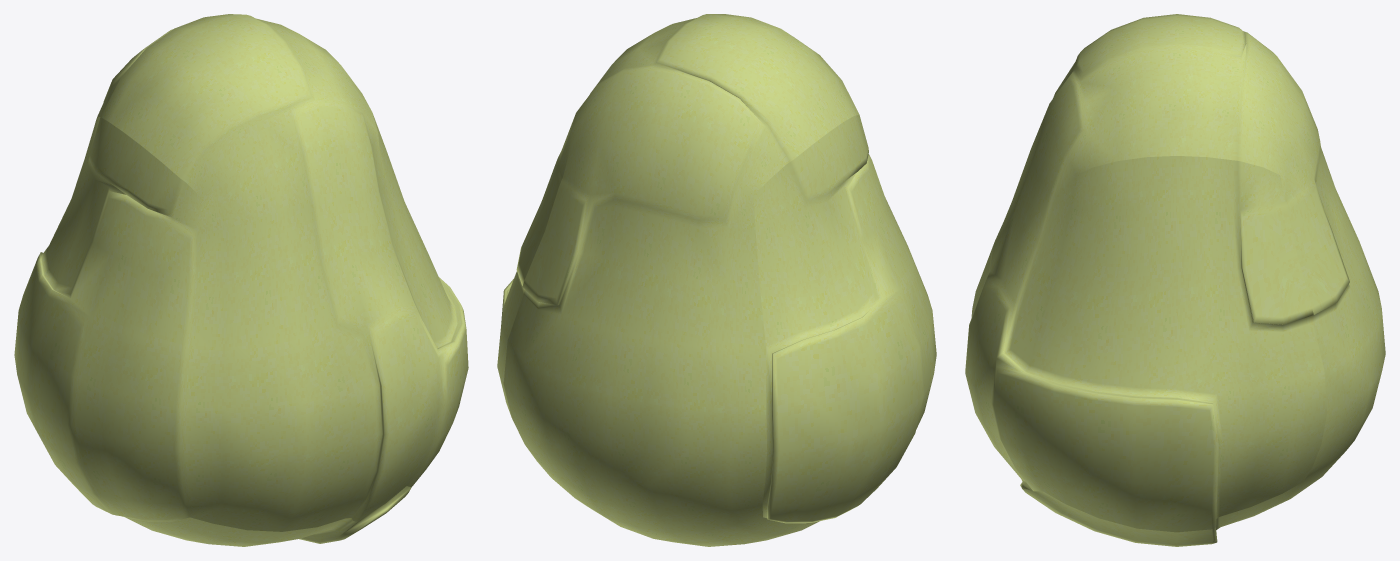
File: stareggroadeggplanetblow.dae
3 renders of one model, left to right at view 1: azimuth 30°, elevation 25°; view 2: azimuth 150°, elevation 25°; view 3: azimuth 270°, elevation 25°, orthographic. The views are drawn at different scales.
Visible parts, largest first — view 1: n0b0; view 2: n0b0; view 3: n0b0.
Part boxes in pixels (x1=…): n0b0: x1=14, y1=14, x2=468, y2=546; n0b0: x1=497, y1=14, x2=936, y2=546; n0b0: x1=965, y1=14, x2=1385, y2=546.
Bounding box in the file's own units: 2027 × 2534 × 1958.
